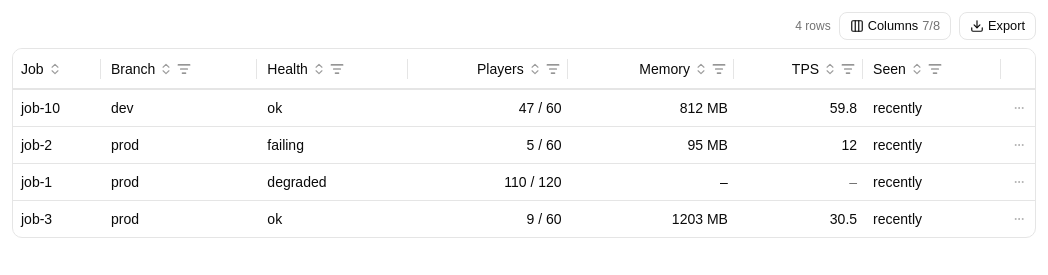
Test case: DataTable sorting › shift-click adds a second sort
Click the button "Branch": (142, 69) left=107, top=57, right=177, bottom=81
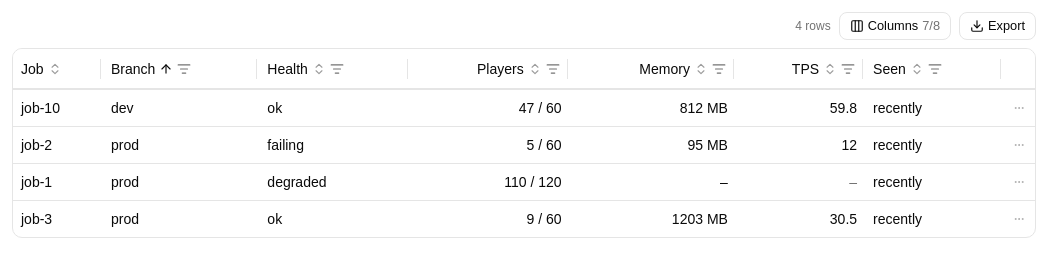
Click the button "Players": (509, 69) left=473, top=57, right=546, bottom=81
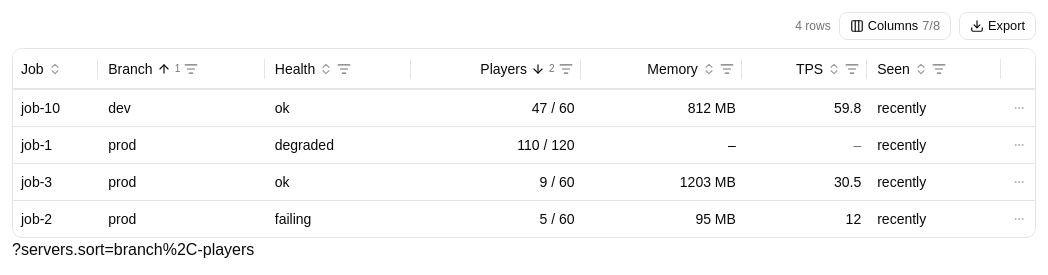
Result: the column heading "Branch 1" is shown at left=100, top=49, right=267, bottom=89
Result: the column heading "Players 2" is shown at left=412, top=49, right=583, bottom=89
